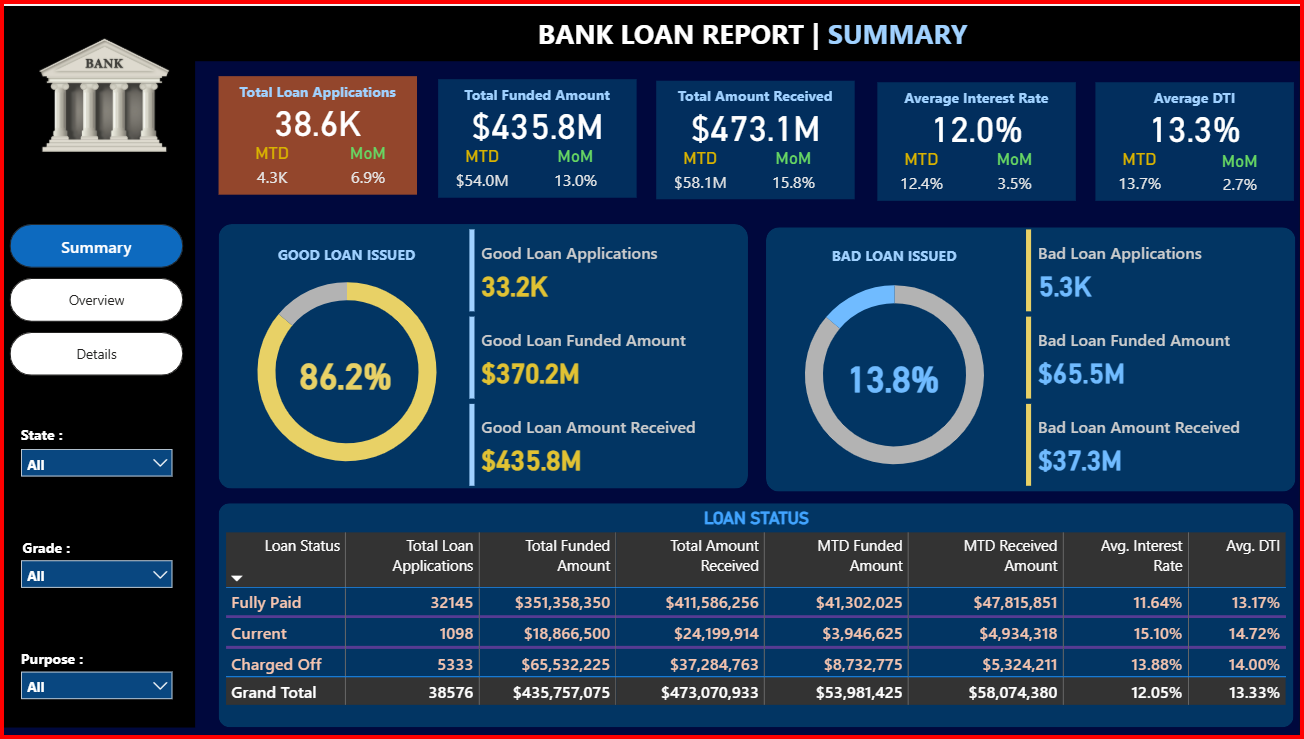

What the dashboard file says about the page in this screenshot:
{"tool":"powerbi","page":{"name":"Summary","canvas":[1280,720],"ordinal":0},"visuals":[{"type":"textbox","title":"Total Loan Applications","box":[213.6,69.7,195.1,116.7],"z":0,"group":"g1"},{"type":"textbox","title":"Total Loan Applications","box":[429.3,72.3,195.1,116.7],"z":0,"group":"g2"},{"type":"textbox","title":"Total Loan Applications","box":[644.5,73.3,195.1,116.7],"z":0,"group":"g3"},{"type":"textbox","title":"Total Loan Applications","box":[1076.7,75.6,195.1,116.7],"z":0,"group":"g5"},{"type":"textbox","title":"Total Loan Applications","box":[861.4,75.8,195.1,116.7],"z":0,"group":"g4"},{"type":"shape","box":[213.1,215.5,521.3,260.7],"z":0,"group":"g6"},{"type":"shape","box":[212.7,489.3,1058.6,220.7],"z":0},{"type":"card","fields":{"Values":["financial_loan.Total Loan Application"]},"box":[213.6,87.3,195.1,51.2],"z":1000,"group":"g1"},{"type":"card","fields":{"Values":["financial_loan.Total Funded Amount"]},"box":[429.3,89.9,195.1,51.2],"z":1000,"group":"g2"},{"type":"card","fields":{"Values":["financial_loan.Total Amount"]},"box":[644.5,90.9,195.1,51.2],"z":1000,"group":"g3"},{"type":"card","fields":{"Values":["financial_loan.Average DTI"]},"box":[1076.7,93.2,195.1,51.2],"z":1000,"group":"g5"},{"type":"card","fields":{"Values":["financial_loan.Average Interest"]},"box":[861.4,93.4,195.1,51.2],"z":1000,"group":"g4"},{"type":"shape","box":[752.1,217.1,521.3,260.7],"z":1000},{"type":"card","fields":{"Values":["financial_loan.Good Loan %"]},"box":[240.5,337.4,195.3,50],"z":1000,"group":"g6"},{"type":"textbox","box":[213.6,69.7,195.1,33.6],"z":2000,"group":"g1"},{"type":"textbox","box":[429.3,72.3,195.1,33.6],"z":2000,"group":"g2"},{"type":"textbox","box":[644.5,73.3,195.1,33.6],"z":2000,"group":"g3"},{"type":"textbox","box":[1076.7,75.6,195.1,33.6],"z":2000,"group":"g5"},{"type":"textbox","box":[861.4,75.8,195.1,33.6],"z":2000,"group":"g4"},{"type":"textbox","box":[241.2,230.3,195.3,33.9],"z":2000,"group":"g6"},{"type":"card","fields":{"Values":["financial_loan.Bad Loan Issued"]},"box":[779.6,338.9,195.3,50],"z":2000},{"type":"shape","box":[0,0,1279.3,54.4],"z":3000},{"type":"card","title":"MTD","fields":{"Values":["financial_loan.MTD Loan Applications"]},"box":[238.9,135.1,54.2,51.6],"z":3000,"group":"g1"},{"type":"card","title":"MTD","fields":{"Values":["financial_loan.MTD Funded Amount"]},"box":[435.5,138.5,74.6,51.5],"z":3000,"group":"g2"},{"type":"card","title":"MTD","fields":{"Values":["financial_loan.MTD Amount Received"]},"box":[650.7,139.5,74.6,51.5],"z":3000,"group":"g3"},{"type":"card","title":"MTD","fields":{"Values":["financial_loan.MTD Average DTI"]},"box":[1082.9,141.8,74.6,51.5],"z":3000,"group":"g5"},{"type":"card","title":"MTD","fields":{"Values":["financial_loan.MTD Average"]},"box":[867.6,142,74.6,51.5],"z":3000,"group":"g4"},{"type":"donutChart","fields":{"Category":["financial_loan.Good v Bad Loans"],"Y":["financial_loan.Total Loan Application"]},"box":[214.7,245.9,249.5,230.3],"z":3000,"group":"g6"},{"type":"card","title":"MoM","fields":{"Values":["financial_loan.MoM Loan Applications"]},"box":[334.4,135.9,53.6,50.9],"z":4000,"group":"g1"},{"type":"card","title":"MoM","fields":{"Values":["financial_loan.MoM Funded Amount"]},"box":[537.8,138.5,53.8,50.8],"z":4000,"group":"g2"},{"type":"card","title":"MoM","fields":{"Values":["financial_loan.MoM Amount Received"]},"box":[753,139.5,53.8,50.8],"z":4000,"group":"g3"},{"type":"card","title":"MoM","fields":{"Values":["financial_loan.MoM Average"]},"box":[969.9,142,53.8,50.8],"z":4000,"group":"g4"},{"type":"card","title":"MoM","fields":{"Values":["financial_loan.MoM Average DTI"]},"box":[1185.3,142.4,67.7,50],"z":4000,"group":"g5"},{"type":"cardVisual","fields":{"Data":["financial_loan.Good Loan Application","financial_loan.Good Loan Funded Amount","financial_loan.Good Loan Amount Received"]},"box":[455.5,215.4,278,263.4],"z":4000,"group":"g6"},{"type":"textbox","box":[780.2,231.9,195.3,33.9],"z":4000},{"type":"donutChart","fields":{"Y":["financial_loan.Total Loan Application"],"Category":["financial_loan.Good v Bad Loans"]},"box":[753.7,247.5,249.5,230.3],"z":5000},{"type":"shape","box":[0,38.7,190.5,671.4],"z":6000},{"type":"cardVisual","fields":{"Data":["financial_loan.Bad Loan Applications","financial_loan.Bad Loan Funded Amount","financial_loan.Bad Loan Amount Received"]},"box":[1003.3,215.3,267.5,263.4],"z":7000},{"type":"textbox","box":[522.6,3.2,458.1,72.6],"z":8000},{"type":"group","id":"g1","title":"Group 1","box":[213.6,69.7,195.5,118.2],"z":9000},{"type":"group","id":"g2","title":"Group 2","box":[429.3,72.3,195.1,117.7],"z":10000},{"type":"group","id":"g3","title":"Group 2","box":[644.5,73.3,196.7,116.7],"z":11000},{"type":"group","id":"g4","title":"Group 2","box":[861.4,75.8,195.1,117.7],"z":12000},{"type":"group","id":"g5","title":"Group 2","box":[1076.7,75.6,195.1,117.7],"z":13000},{"type":"tableEx","title":"LOAN STATUS","fields":{"Values":["financial_loan.loan_status","financial_loan.Total Loan Application","financial_loan.Total Funded Amount","financial_loan.Total Amount","financial_loan.MTD Funded Amount","financial_loan.MTD Amount Received","financial_loan.Average Interest","financial_loan.Average DTI"]},"box":[215,493.8,1056.2,220],"z":14000},{"type":"group","id":"g6","title":"Group 3","box":[213.1,215.4,521.3,263.4],"z":15000},{"type":"image","box":[30.9,0,138.2,175.5],"z":16000},{"type":"slicer","fields":{"Values":["financial_loan.address_state"]},"box":[9.7,427,169,48],"z":16000,"group":"g7"},{"type":"pageNavigator","box":[8.1,214.7,171.1,150.1],"z":17000},{"type":"textbox","box":[14,407.6,181.2,35],"z":17000,"group":"g7"},{"type":"group","id":"g7","title":"Group 4","box":[9.7,407.6,185.6,67.4],"z":18000},{"type":"slicer","fields":{"Values":["financial_loan.grade"]},"box":[9.7,536.1,169,48],"z":18000,"group":"g8"},{"type":"group","id":"g8","title":"Group 5","box":[9.7,517.8,186.2,66.3],"z":19000},{"type":"textbox","box":[15,517.8,180.9,34.5],"z":19000,"group":"g8"},{"type":"group","id":"g9","title":"Group 6","box":[9,627,185.9,66],"z":20000},{"type":"slicer","fields":{"Values":["financial_loan.purpose"]},"box":[9,645,169,48],"z":20000,"group":"g9"},{"type":"textbox","box":[14,627,180.9,34.5],"z":21000,"group":"g9"}]}

Visuals, with their boxes in screenshot pixels (x1, y1, x2, y2), scaled from the page's 1280x720 canvas onto the 1304x739 screenshot:
"Total Loan Applications" textbox: [x1=218, y1=72, x2=416, y2=191]
"Total Loan Applications" textbox: [x1=437, y1=74, x2=636, y2=194]
"Total Loan Applications" textbox: [x1=657, y1=75, x2=855, y2=195]
"Total Loan Applications" textbox: [x1=1097, y1=78, x2=1296, y2=197]
"Total Loan Applications" textbox: [x1=878, y1=78, x2=1076, y2=198]
shape: [x1=217, y1=221, x2=748, y2=489]
shape: [x1=217, y1=502, x2=1295, y2=729]
card - financial_loan.Total Loan Application: [x1=218, y1=90, x2=416, y2=142]
card - financial_loan.Total Funded Amount: [x1=437, y1=92, x2=636, y2=145]
card - financial_loan.Total Amount: [x1=657, y1=93, x2=855, y2=146]
card - financial_loan.Average DTI: [x1=1097, y1=96, x2=1296, y2=148]
card - financial_loan.Average Interest: [x1=878, y1=96, x2=1076, y2=148]
shape: [x1=766, y1=223, x2=1297, y2=490]
card - financial_loan.Good Loan %: [x1=245, y1=346, x2=444, y2=398]
textbox: [x1=218, y1=72, x2=416, y2=106]
textbox: [x1=437, y1=74, x2=636, y2=109]
textbox: [x1=657, y1=75, x2=855, y2=110]
textbox: [x1=1097, y1=78, x2=1296, y2=112]
textbox: [x1=878, y1=78, x2=1076, y2=112]
textbox: [x1=246, y1=236, x2=445, y2=271]
card - financial_loan.Bad Loan Issued: [x1=794, y1=348, x2=993, y2=399]
shape: [x1=0, y1=0, x2=1303, y2=56]
"MTD" card: [x1=243, y1=139, x2=299, y2=192]
"MTD" card: [x1=444, y1=142, x2=520, y2=195]
"MTD" card: [x1=663, y1=143, x2=739, y2=196]
"MTD" card: [x1=1103, y1=146, x2=1179, y2=198]
"MTD" card: [x1=884, y1=146, x2=960, y2=199]
donutChart - financial_loan.Good v Bad Loans x financial_loan.Total Loan Application: [x1=219, y1=252, x2=473, y2=489]
"MoM" card: [x1=341, y1=139, x2=395, y2=192]
"MoM" card: [x1=548, y1=142, x2=603, y2=194]
"MoM" card: [x1=767, y1=143, x2=822, y2=195]
"MoM" card: [x1=988, y1=146, x2=1043, y2=198]
"MoM" card: [x1=1208, y1=146, x2=1276, y2=197]
cardVisual - financial_loan.Good Loan Application x financial_loan.Good Loan Funded Amount: [x1=464, y1=221, x2=747, y2=491]
textbox: [x1=795, y1=238, x2=994, y2=273]
donutChart - financial_loan.Total Loan Application x financial_loan.Good v Bad Loans: [x1=768, y1=254, x2=1022, y2=490]
shape: [x1=0, y1=40, x2=194, y2=729]
cardVisual - financial_loan.Bad Loan Applications x financial_loan.Bad Loan Funded Amount: [x1=1022, y1=221, x2=1295, y2=491]
textbox: [x1=532, y1=3, x2=999, y2=78]
"Group 1" group: [x1=218, y1=72, x2=417, y2=193]
"Group 2" group: [x1=437, y1=74, x2=636, y2=195]
"Group 2" group: [x1=657, y1=75, x2=857, y2=195]
"Group 2" group: [x1=878, y1=78, x2=1076, y2=199]
"Group 2" group: [x1=1097, y1=78, x2=1296, y2=198]
"LOAN STATUS" tableEx: [x1=219, y1=507, x2=1295, y2=733]
"Group 3" group: [x1=217, y1=221, x2=748, y2=491]
image: [x1=31, y1=0, x2=172, y2=180]
slicer - financial_loan.address_state: [x1=10, y1=438, x2=182, y2=488]
pageNavigator: [x1=8, y1=220, x2=183, y2=374]
textbox: [x1=14, y1=418, x2=199, y2=454]
"Group 4" group: [x1=10, y1=418, x2=199, y2=488]
slicer - financial_loan.grade: [x1=10, y1=550, x2=182, y2=600]
"Group 5" group: [x1=10, y1=531, x2=200, y2=600]
textbox: [x1=15, y1=531, x2=200, y2=567]
"Group 6" group: [x1=9, y1=644, x2=199, y2=711]
slicer - financial_loan.purpose: [x1=9, y1=662, x2=181, y2=711]
textbox: [x1=14, y1=644, x2=199, y2=679]
